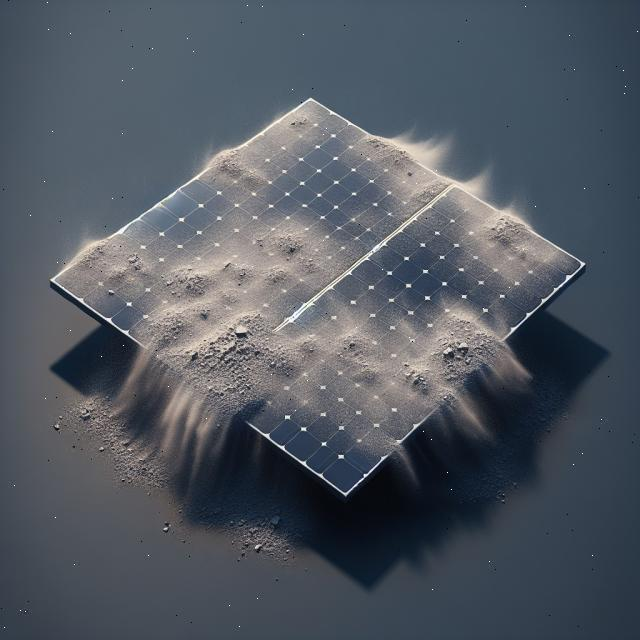Anomaly Solar Panel: (50, 18, 582, 528)
Surface Contaminant: (33, 119, 518, 506), (304, 122, 582, 342), (190, 81, 366, 217)
